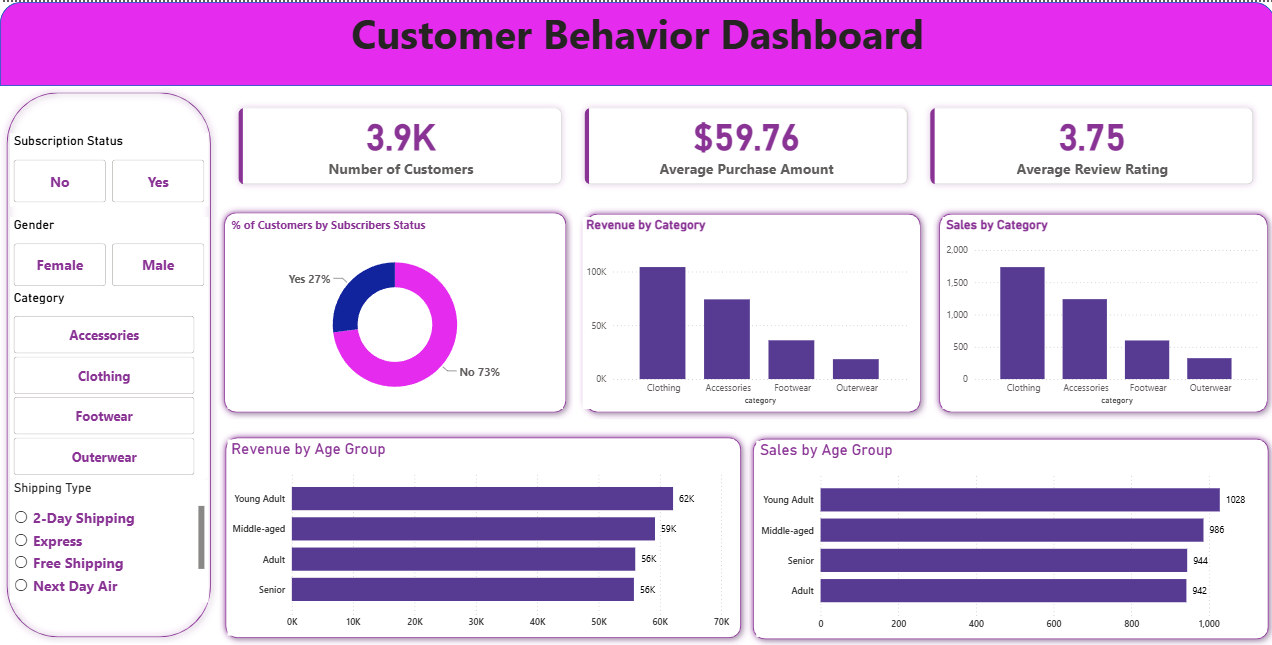

This screenshot's page, from the dashboard's own definition file:
{"tool":"powerbi","page":{"name":"Page 1","canvas":[1700,1061],"ordinal":0},"visuals":[{"type":"cardVisual","fields":{"Data":["customer_behavior customer.Number of Customers","customer_behavior customer.Average Purchase Amount","customer_behavior customer.Average Review Rating"]},"box":[290.1,113.5,1409.1,158.6],"z":0},{"type":"shape","box":[0,0,1700.2,112.1],"z":1000},{"type":"textbox","box":[0,0,1700.2,90.4],"z":2000},{"type":"shape","box":[290.1,272.1,473.9,284.7],"z":3000},{"type":"donutChart","title":"% of Customers by Subscribers Status","fields":{"Category":["customer_behavior customer.subscription_status"],"Y":["CountNonNull(customer_behavior customer.customer_id)"]},"box":[302.7,286.5,446.9,255.9],"z":4000},{"type":"shape","box":[771.2,273.9,464.9,282.9],"z":5000},{"type":"shape","box":[1243.4,273.9,455.9,282.9],"z":6000},{"type":"clusteredColumnChart","title":"Revenue by Category","fields":{"Category":["customer_behavior customer.category"],"Y":["Sum(customer_behavior customer.purchase_amount)"]},"box":[776.7,286.5,437.9,255.9],"z":7000},{"type":"clusteredColumnChart","title":"Sales by Category","fields":{"Category":["customer_behavior customer.category"],"Y":["CountNonNull(customer_behavior customer.customer_id)"]},"box":[1256,286.5,427.1,255.9],"z":8000},{"type":"shape","box":[0,111.7,290.1,744.2],"z":9000},{"type":"advancedSlicerVisual","title":"Subscription Status","fields":{"Values":["customer_behavior customer.subscription_status"]},"box":[12.6,174.8,264.9,97.3],"z":10000},{"type":"advancedSlicerVisual","title":"Gender","fields":{"Values":["customer_behavior customer.gender"]},"box":[12.6,286.5,264.9,97.3],"z":11000},{"type":"advancedSlicerVisual","title":"Category","fields":{"Values":["customer_behavior customer.category"]},"box":[12.6,383.8,264.9,252.3],"z":12000},{"type":"listSlicer","fields":{"Values":["customer_behavior customer.shipping_type"]},"box":[12.6,636.1,264.9,164],"z":13000},{"type":"shape","box":[290.9,570.9,705.5,285.5],"z":14000},{"type":"clusteredBarChart","title":"Revenue by Age Group","fields":{"Category":["customer_behavior customer.age_group"],"Y":["Sum(customer_behavior customer.purchase_amount)"]},"box":[303.6,583.6,674.5,261.8],"z":15000},{"type":"shape","box":[994.5,572.7,705.5,285.5],"z":15001},{"type":"clusteredBarChart","title":"Sales by Age Group","fields":{"Category":["customer_behavior customer.age_group"],"Y":["CountNonNull(customer_behavior customer.customer_id)"]},"box":[1009.1,585.5,674.5,261.8],"z":15002}]}

Visuals, with their boxes on the page's 1700x1061 design canvas (x1, y1, x2, y2). These are canvas units, not pixel positions in the 1272x645 screenshot, which may show the page scaled, cropped or inside an application window:
cardVisual - customer_behavior customer.Number of Customers x customer_behavior customer.Average Purchase Amount: {"left": 290, "top": 114, "right": 1699, "bottom": 272}
shape: {"left": 0, "top": 0, "right": 1700, "bottom": 112}
textbox: {"left": 0, "top": 0, "right": 1700, "bottom": 90}
shape: {"left": 290, "top": 272, "right": 764, "bottom": 557}
"% of Customers by Subscribers Status" donutChart: {"left": 303, "top": 286, "right": 750, "bottom": 542}
shape: {"left": 771, "top": 274, "right": 1236, "bottom": 557}
shape: {"left": 1243, "top": 274, "right": 1699, "bottom": 557}
"Revenue by Category" clusteredColumnChart: {"left": 777, "top": 286, "right": 1215, "bottom": 542}
"Sales by Category" clusteredColumnChart: {"left": 1256, "top": 286, "right": 1683, "bottom": 542}
shape: {"left": 0, "top": 112, "right": 290, "bottom": 856}
"Subscription Status" advancedSlicerVisual: {"left": 13, "top": 175, "right": 278, "bottom": 272}
"Gender" advancedSlicerVisual: {"left": 13, "top": 286, "right": 278, "bottom": 384}
"Category" advancedSlicerVisual: {"left": 13, "top": 384, "right": 278, "bottom": 636}
listSlicer - customer_behavior customer.shipping_type: {"left": 13, "top": 636, "right": 278, "bottom": 800}
shape: {"left": 291, "top": 571, "right": 996, "bottom": 856}
"Revenue by Age Group" clusteredBarChart: {"left": 304, "top": 584, "right": 978, "bottom": 845}
shape: {"left": 994, "top": 573, "right": 1700, "bottom": 858}
"Sales by Age Group" clusteredBarChart: {"left": 1009, "top": 586, "right": 1684, "bottom": 847}
